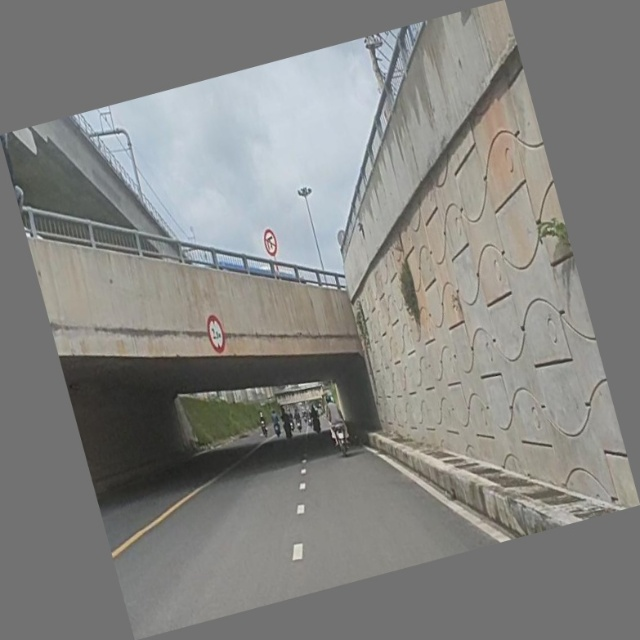P.124d: (261, 226, 281, 257)
